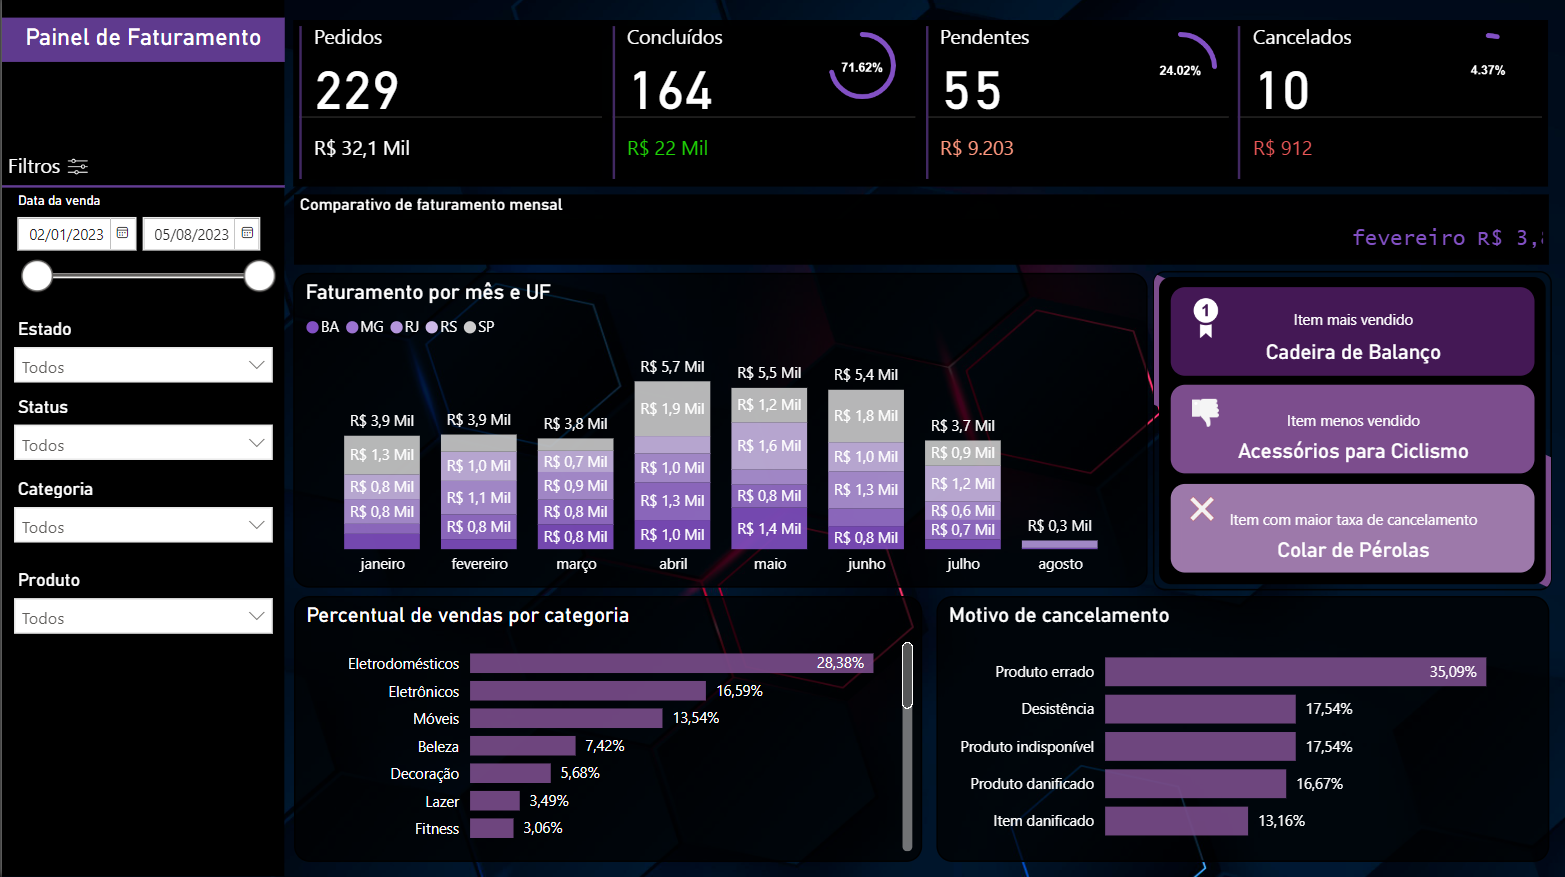

Layout of this report page (visuals, bound fields, positions):
{"tool":"powerbi","page":{"name":"Painel","canvas":[1280,720],"ordinal":0},"visuals":[{"type":"cardVisual","fields":{"Data":[".Medidas.Total",".Medidas.Concluido",".Medidas.Pendente",".Medidas.Cancelado"]},"box":[238.3,20,1026.1,135.7],"z":0,"group":"g1"},{"type":"htmlContent443BE3AD55E043BF878BED274D3A6855","fields":{"content":[".Medidas.imagem"]},"box":[936,219.5,336.3,271.3],"z":0},{"type":"payPalKPIDonutChart55A431AB15A540ED924ACD72ED8D259F","fields":{"myvalue":[".Medidas.%Concluido"]},"box":[656.3,19.9,95.3,75.5],"z":1000,"group":"g1"},{"type":"cardVisual","fields":{"Data":["Min(Base.item)"]},"box":[954.4,237.1,299.4,74.6],"z":1000},{"type":"payPalKPIDonutChart55A431AB15A540ED924ACD72ED8D259F","fields":{"myvalue":[".Medidas.%pendente"]},"box":[912.5,19.9,101.3,80.4],"z":2000,"group":"g1"},{"type":"cardVisual","fields":{"Data":["Min(Base.item)"]},"box":[954.4,317,299.4,75.5],"z":2000},{"type":"payPalKPIDonutChart55A431AB15A540ED924ACD72ED8D259F","fields":{"myvalue":[".Medidas.%cancelado"]},"box":[1166.8,19.9,97.3,78.4],"z":3000,"group":"g1"},{"type":"barChart","title":"Percentual de vendas por categoria","fields":{"Category":["Base.categoria"],"Y":["Sum(Base.idpedido)"]},"box":[238.8,490.8,513.7,216.9],"z":3000},{"type":"ScrollingTextVisual1448795304508","title":"Comparativo de faturamento mensal","fields":{"Category":["CalendarioAuto.Date.Variation.Hierarquia de datas.Mês"],"Measure Deviation":[".Medidas.variação"],"Measure Absolute":[".Medidas.V.Total"]},"box":[239,162,1026.1,57.8],"z":4000},{"type":"barChart","title":"Motivo de cancelamento","fields":{"Category":["Base.motivo_devolucao"],"Y":[".Medidas.V.Cancelado"]},"box":[763.9,490.8,501.4,216.9],"z":5000},{"type":"columnChart","title":"Faturamento por mês e UF","fields":{"Category":["CalendarioAuto.Date.Variation.Hierarquia de datas.Mês"],"Series":["Base.uf"],"Y":[".Medidas.V.Total"]},"box":[238,226.5,698.9,257.3],"z":6000},{"type":"group","id":"g1","title":"Grupo 1","box":[238.3,19.9,1025.8,136],"z":7000},{"type":"shape","box":[0,0,230.9,720],"z":8000},{"type":"slicer","fields":{"Values":["Base.data_venda"]},"box":[0,155.9,231.4,102.3],"z":9000},{"type":"slicer","fields":{"Values":["Base.estado"]},"box":[0,258.2,231.4,67.5],"z":10000},{"type":"textbox","box":[0,17.9,231.4,36.7],"z":11000},{"type":"cardVisual","fields":{"Data":["Min(Base.item)"]},"box":[954.4,397.8,299.4,74.6],"z":13000},{"type":"slicer","fields":{"Values":["Base.status"]},"box":[0,321.7,231.4,67.5],"z":16000},{"type":"slicer","fields":{"Values":["Base.categoria"]},"box":[0,389.3,231.4,67.5],"z":17000},{"type":"slicer","fields":{"Values":["Base.item"]},"box":[0,463.7,231.4,67.5],"z":18000},{"type":"shape","box":[0,141,231.4,28.8],"z":19000},{"type":"textbox","box":[0,122.1,239,34.3],"z":20000},{"type":"image","box":[43,125.6,37.8,27.2],"z":21000},{"type":"image","box":[954.4,242.3,58.8,42.1],"z":21001},{"type":"image","box":[954.4,320.5,58.8,39.5],"z":21002},{"type":"image","box":[954.4,402.1,53.6,33.4],"z":21003}]}

Visuals, with their boxes in screenshot pixels (x1, y1, x2, y2), scaled from the page's 1280x720 canvas onto the 1565x877 screenshot:
cardVisual - .Medidas.Total x .Medidas.Concluido: [291,24,1546,190]
htmlContent443BE3AD55E043BF878BED274D3A6855 - .Medidas.imagem: [1144,267,1556,598]
payPalKPIDonutChart55A431AB15A540ED924ACD72ED8D259F - .Medidas.%Concluido: [802,24,919,116]
cardVisual - Min(Base.item): [1167,289,1533,380]
payPalKPIDonutChart55A431AB15A540ED924ACD72ED8D259F - .Medidas.%pendente: [1116,24,1240,122]
cardVisual - Min(Base.item): [1167,386,1533,478]
payPalKPIDonutChart55A431AB15A540ED924ACD72ED8D259F - .Medidas.%cancelado: [1427,24,1546,120]
"Percentual de vendas por categoria" barChart: [292,598,920,862]
"Comparativo de faturamento mensal" ScrollingTextVisual1448795304508: [292,197,1547,268]
"Motivo de cancelamento" barChart: [934,598,1547,862]
"Faturamento por mês e UF" columnChart: [291,276,1146,589]
"Grupo 1" group: [291,24,1546,190]
shape: [0,0,282,876]
slicer - Base.data_venda: [0,190,283,315]
slicer - Base.estado: [0,315,283,397]
textbox: [0,22,283,67]
cardVisual - Min(Base.item): [1167,485,1533,575]
slicer - Base.status: [0,392,283,474]
slicer - Base.categoria: [0,474,283,556]
slicer - Base.item: [0,565,283,647]
shape: [0,172,283,207]
textbox: [0,149,292,191]
image: [53,153,99,186]
image: [1167,295,1239,346]
image: [1167,390,1239,438]
image: [1167,490,1232,530]
